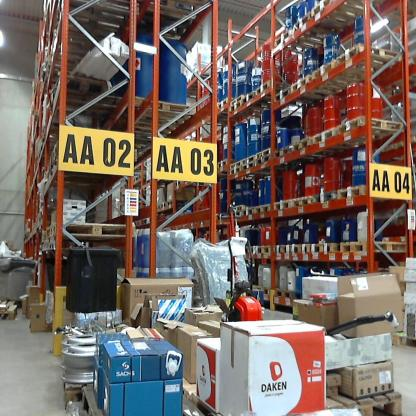pallet: (82, 387, 205, 415), (53, 76, 122, 118), (123, 95, 189, 133), (339, 36, 396, 76), (325, 386, 403, 413), (55, 218, 134, 244), (340, 110, 404, 142), (340, 237, 409, 255), (63, 377, 96, 405), (308, 0, 339, 17), (311, 239, 340, 256), (337, 185, 369, 200), (315, 189, 336, 208), (315, 127, 336, 145), (290, 19, 313, 34), (292, 138, 313, 153), (277, 288, 295, 304), (291, 196, 317, 207), (276, 30, 295, 45), (315, 61, 335, 74), (272, 143, 292, 156), (291, 240, 310, 253), (291, 76, 313, 87), (275, 87, 292, 101), (273, 202, 293, 213), (277, 244, 290, 255)
